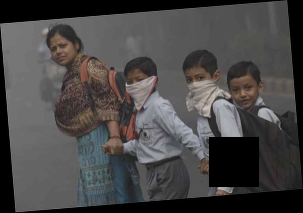with_mask: (124, 73, 150, 99), (186, 70, 211, 97)
without_mask: (229, 80, 259, 109), (50, 40, 75, 66)
